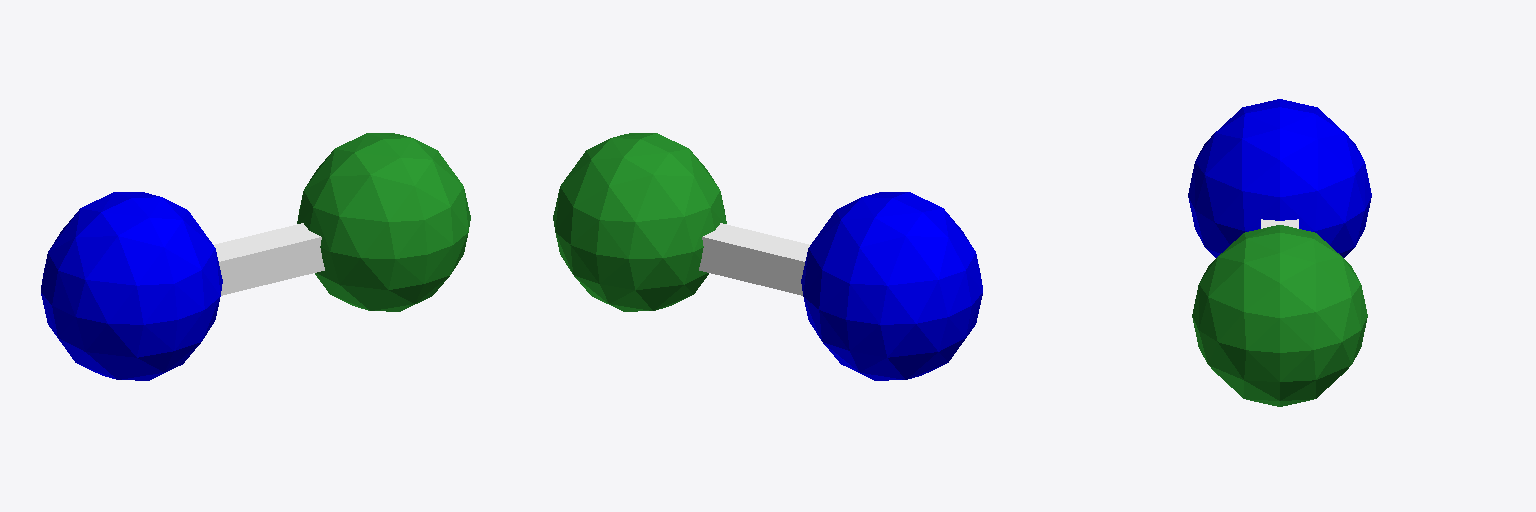
File: barbell.obj
The picture shows the model from 3 angles: view 1: azimuth 30°, elevation 25°; view 2: azimuth 150°, elevation 25°; view 3: azimuth 270°, elevation 25°; orthographic projection.
Visible parts, largest first — view 1: Sphere_1, Sphere_3, Cube_1; view 2: Sphere_1, Sphere_3, Cube_1; view 3: Sphere_3, Sphere_1.
Boxes of the visible parts, x1,y1,x2,y2 form: Sphere_1: [41, 192, 222, 380]; Sphere_3: [297, 133, 470, 311]; Cube_1: [214, 223, 324, 295]; Sphere_1: [801, 192, 982, 380]; Sphere_3: [553, 133, 726, 311]; Cube_1: [699, 223, 809, 295]; Sphere_3: [1192, 225, 1367, 406]; Sphere_1: [1188, 99, 1371, 257].
Bounding box in the file's own units: 1.74 × 0.72 × 0.68.